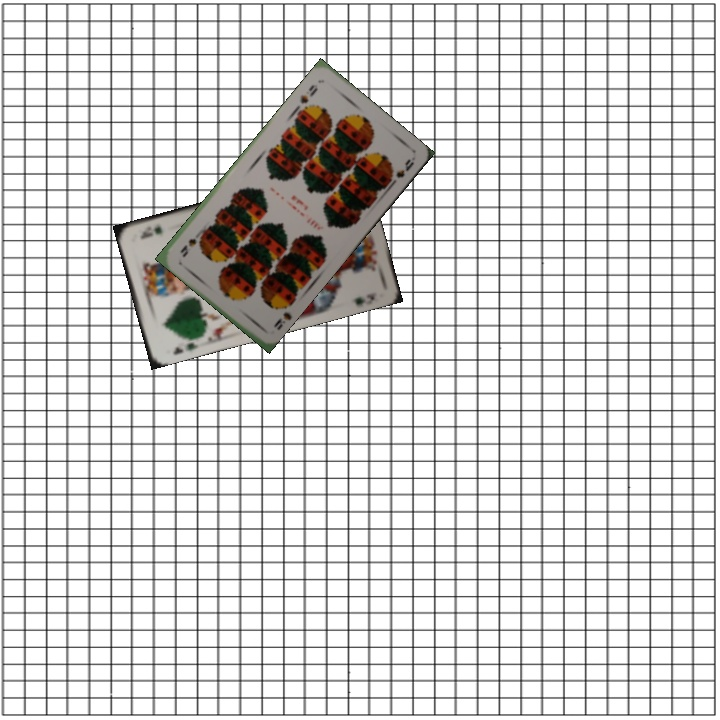GK: (169, 339, 201, 358)
S9: (269, 297, 295, 333), (296, 80, 320, 107)
